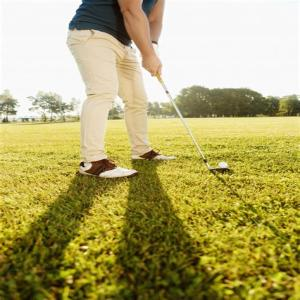Golf: (218, 160, 230, 169)
